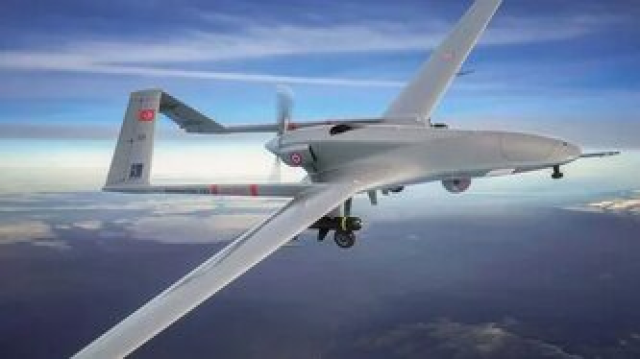military drone: (67, 0, 619, 359)
